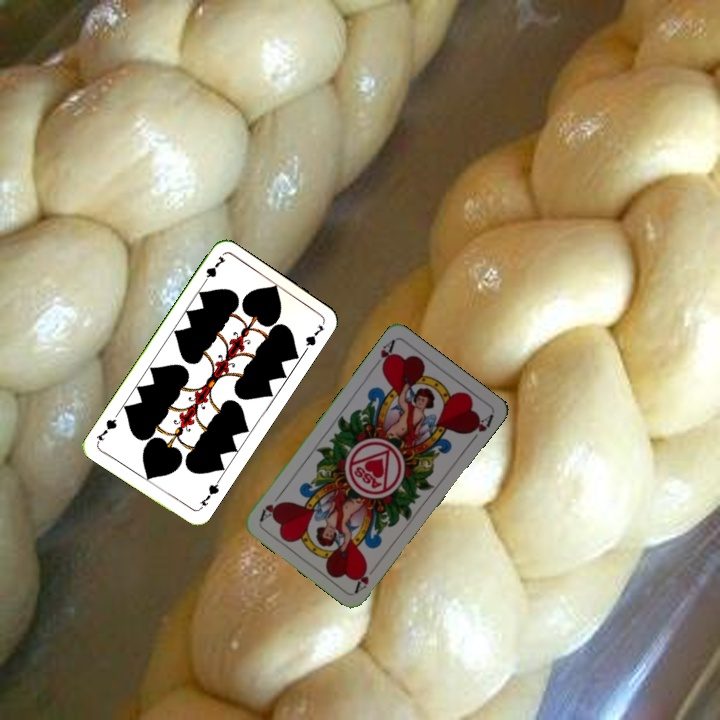G7: (198, 251, 228, 288), (195, 476, 222, 512)
HA: (351, 560, 381, 595), (368, 336, 397, 372)
